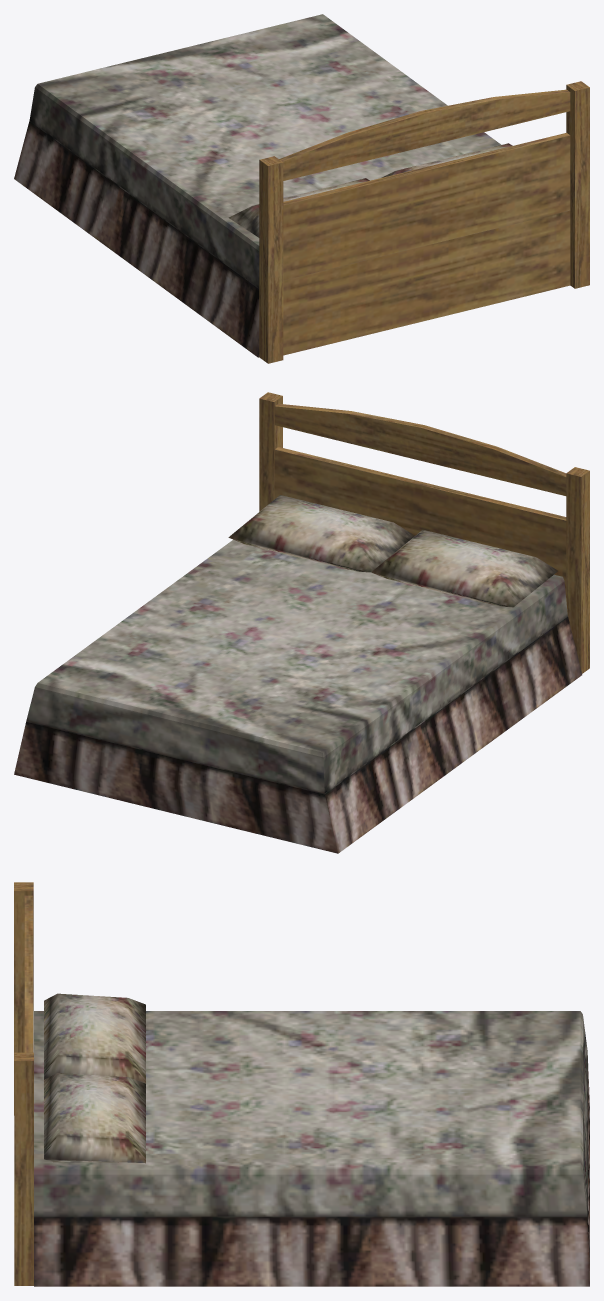
Rendered from queenbedwood3.fbx.
The picture shows the model from 3 angles, top to bottom: view 1: azimuth 30°, elevation 25°; view 2: azimuth 150°, elevation 25°; view 3: azimuth 270°, elevation 25°; orthographic projection. The views are drawn at different scales.
Parts seen in each view (by area): view 1: mesh_0; view 2: mesh_0; view 3: mesh_0.
Part boxes in pixels (bbox=[...]): mesh_0: bbox=[14, 14, 589, 363]; mesh_0: bbox=[14, 392, 589, 853]; mesh_0: bbox=[14, 882, 589, 1286].
Bounding box in the file's own units: 181 × 111 × 244.
Materials: 1 (1 with a texture image).
